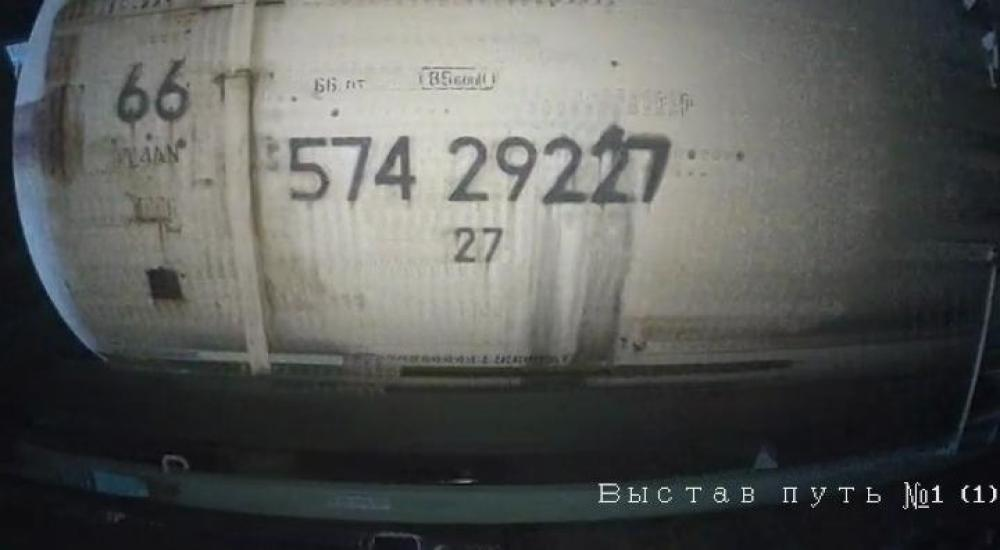Wagon-number: (282, 128, 680, 210)
